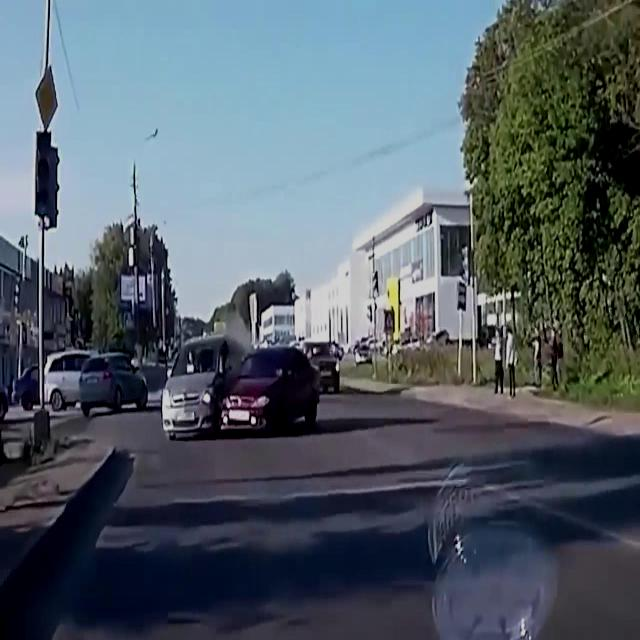accident: (162, 336, 318, 439)
non-accident: (10, 348, 150, 418)
